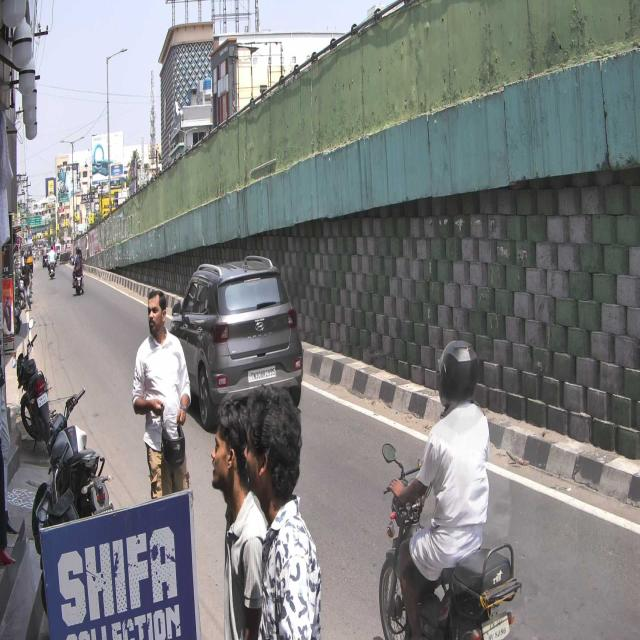single_rider: (376, 337, 519, 640)
